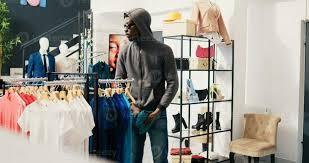shoplifting: (106, 78, 192, 143)
